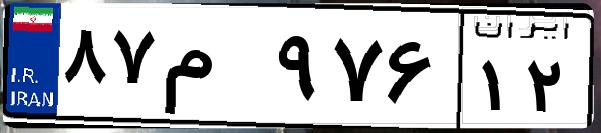1: (475, 38, 525, 113)
2: (525, 38, 570, 115)
6: (385, 28, 445, 110)
7: (330, 28, 385, 110), (110, 28, 158, 98)
8: (57, 26, 110, 100)
9: (270, 28, 330, 110)
م: (158, 20, 270, 120)
